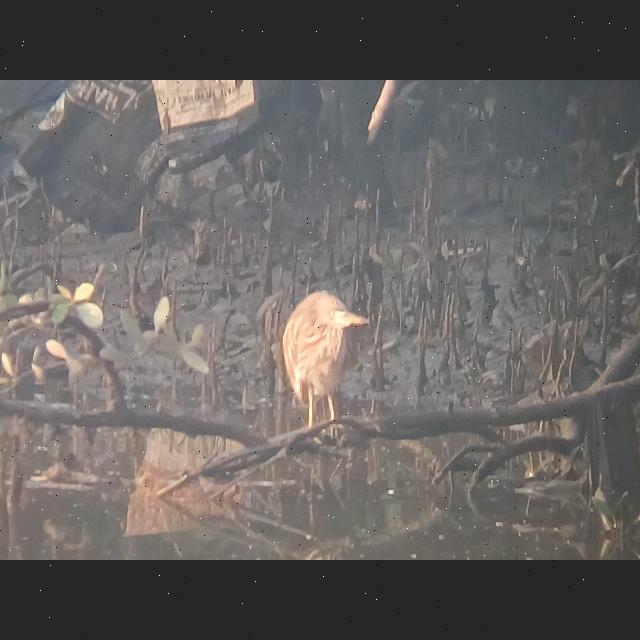heron: (272, 284, 380, 436)
